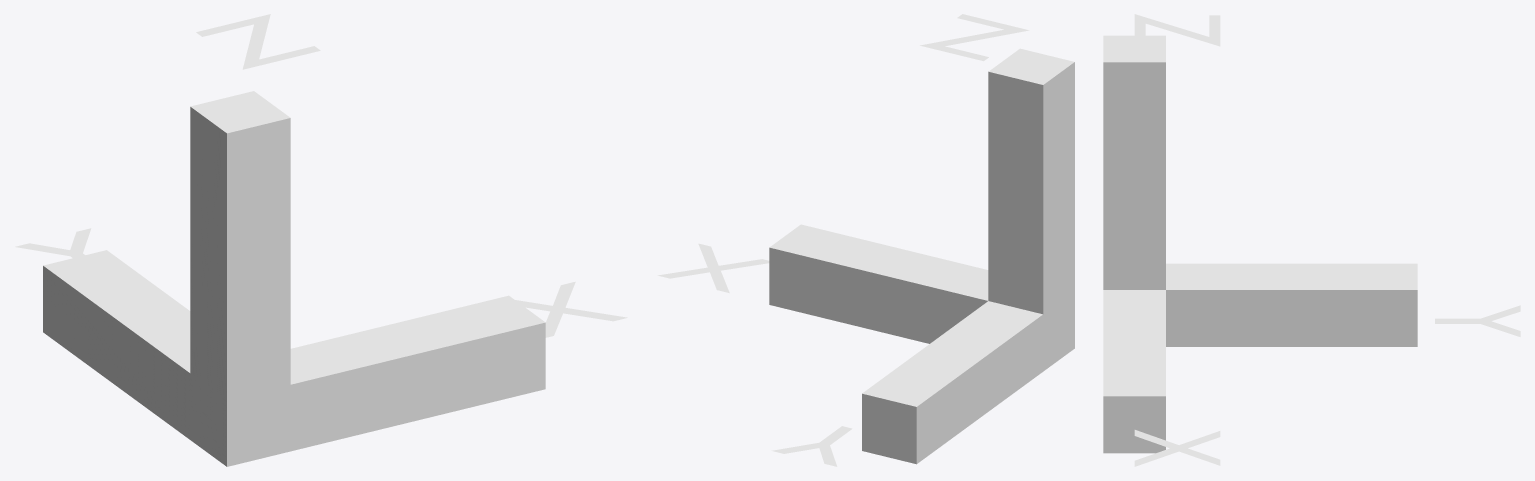
Rendered from coordinates.obj.
The picture shows the model from 3 angles, left to right: view 1: azimuth 30°, elevation 25°; view 2: azimuth 150°, elevation 25°; view 3: azimuth 270°, elevation 25°; orthographic projection. The views are drawn at different scales.
Visible parts, largest first — view 1: Coordinate_Axes; view 2: Coordinate_Axes; view 3: Coordinate_Axes.
Boxes of the visible parts, box(x1,y1,x2,y2) form: Coordinate_Axes: box(15, 14, 627, 466); Coordinate_Axes: box(657, 14, 1074, 466); Coordinate_Axes: box(1103, 14, 1520, 466).
Size of the model in its own units: 3.29 by 2.81 by 3.32.
